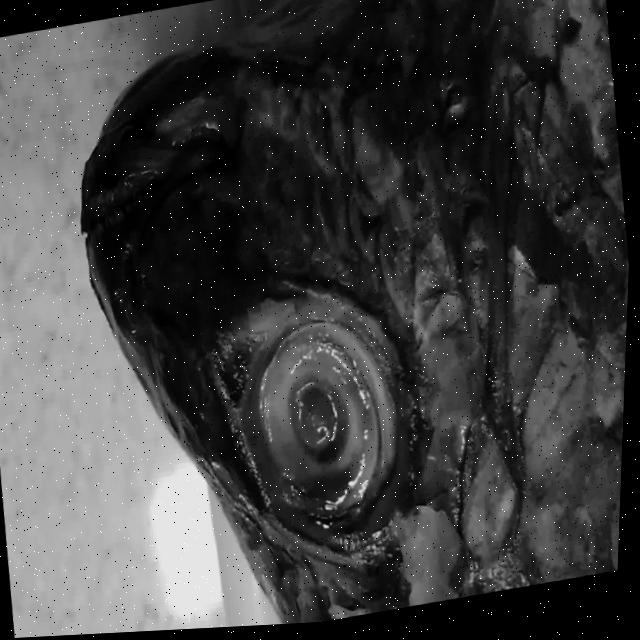Non-Fresh: (226, 311, 429, 518)
